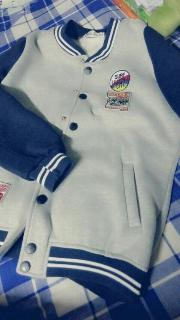long sleeve top: (0, 17, 180, 302)
